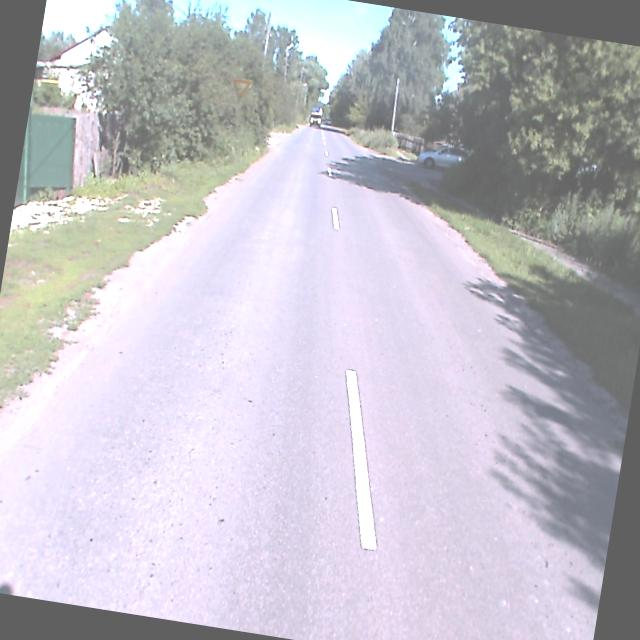road: (0, 119, 624, 640)
